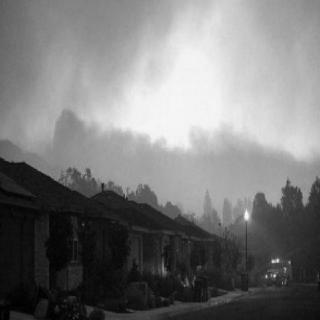Fire: (114, 46, 272, 152)
other: (238, 206, 255, 226)
